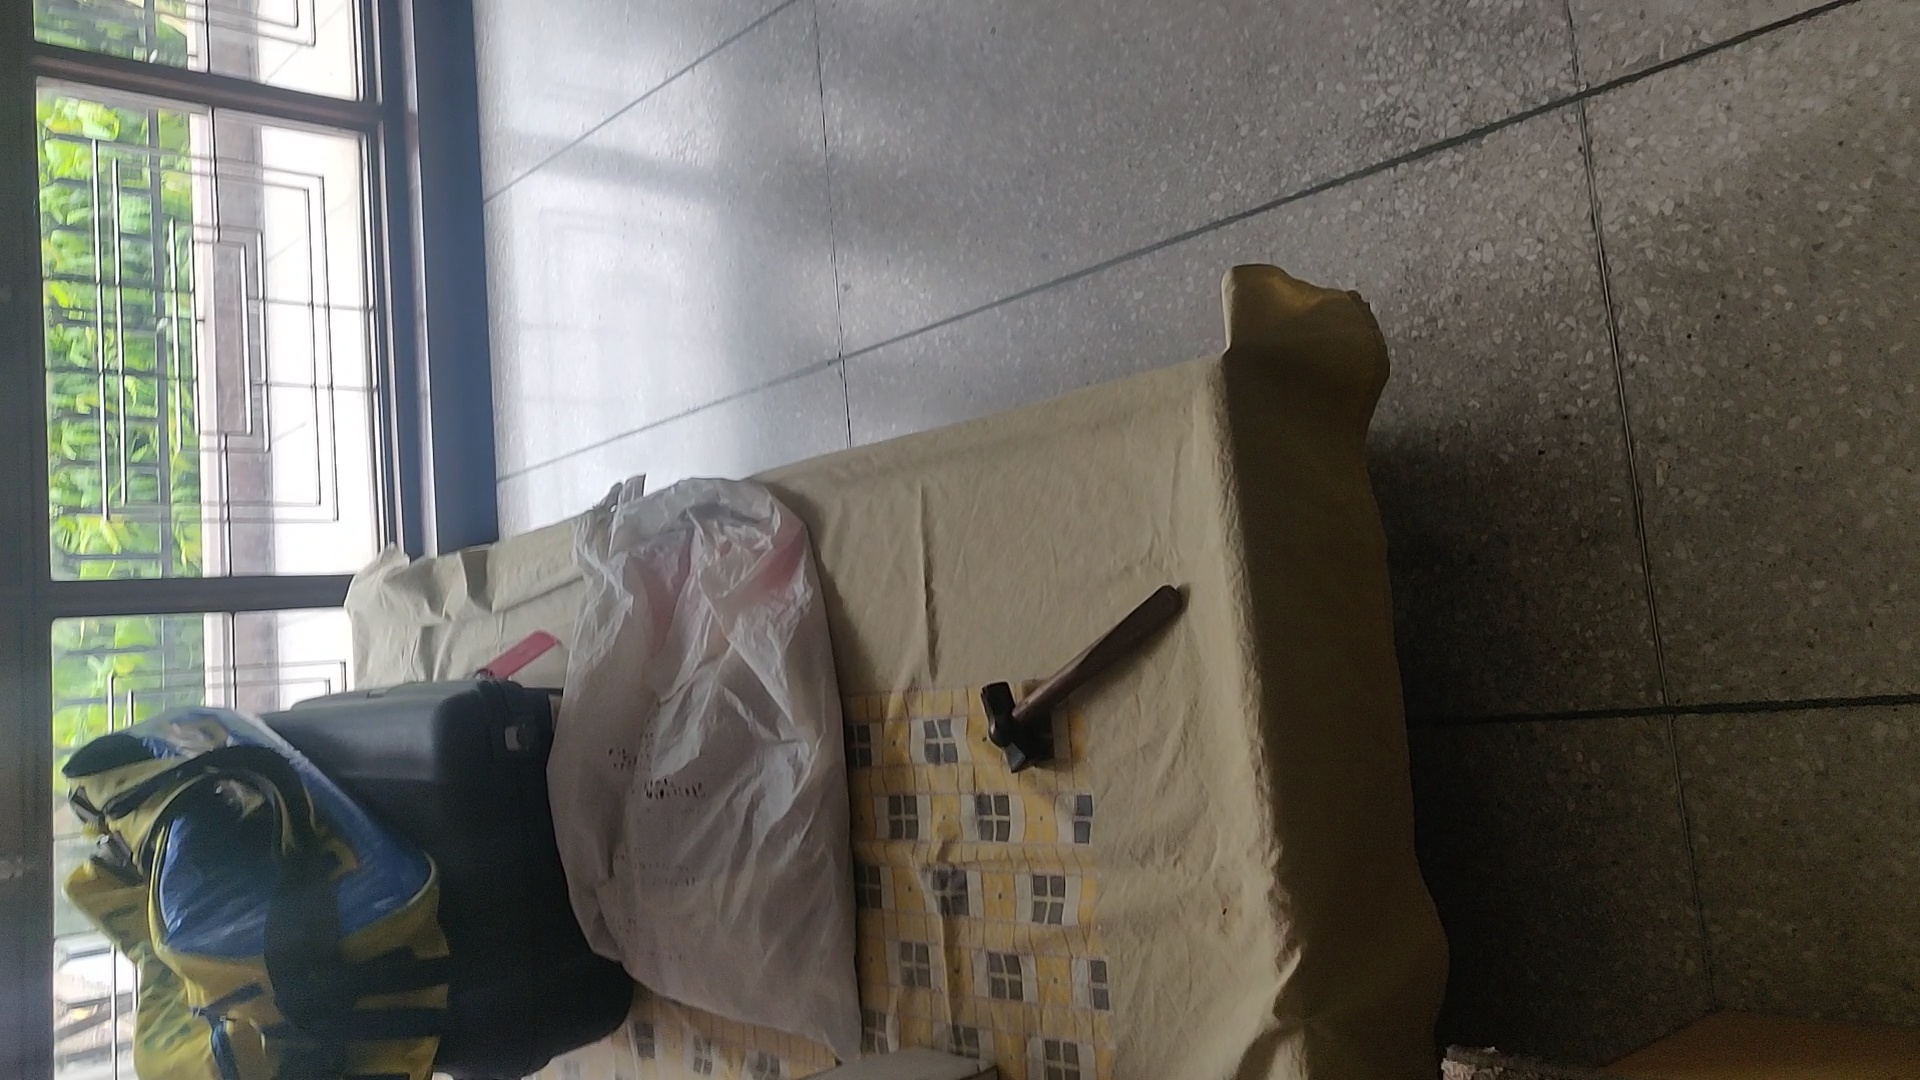hammer: (977, 584, 1188, 777)
